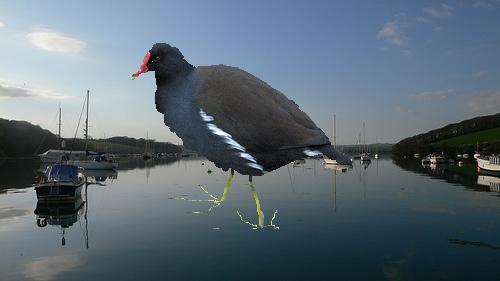tampered: (132, 44, 352, 229)
